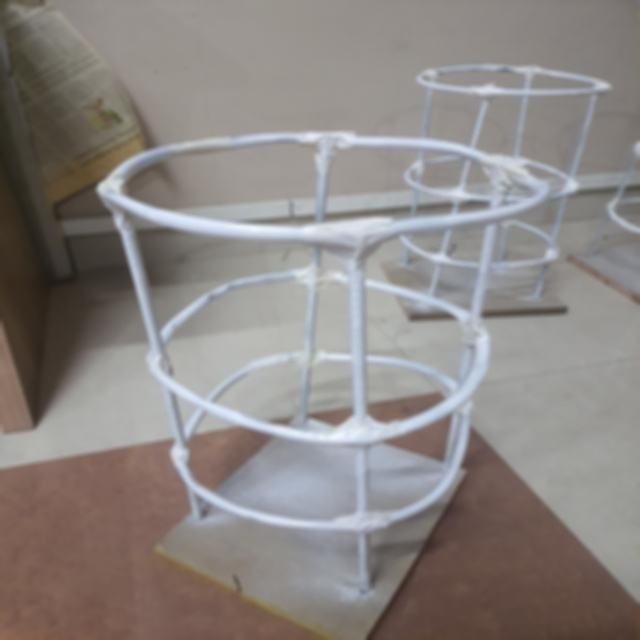silo: (100, 130, 541, 640), (388, 62, 613, 322)
